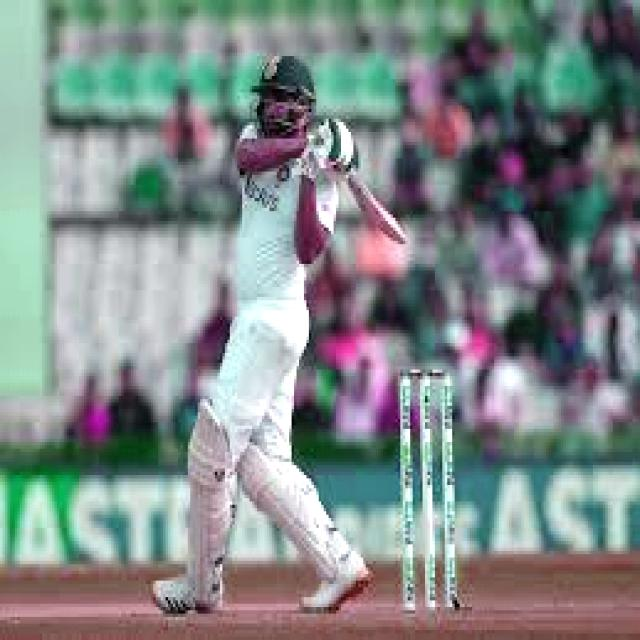toe: (380, 221, 404, 247)
